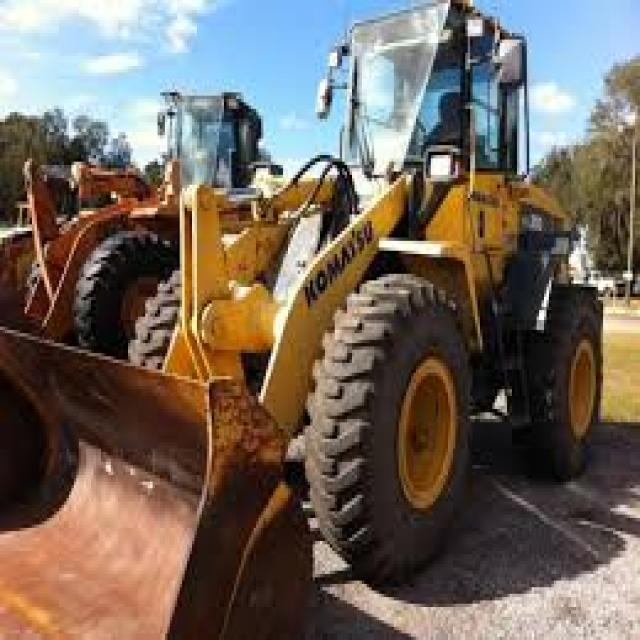buldozerpayloadergrader: (11, 0, 606, 640)
